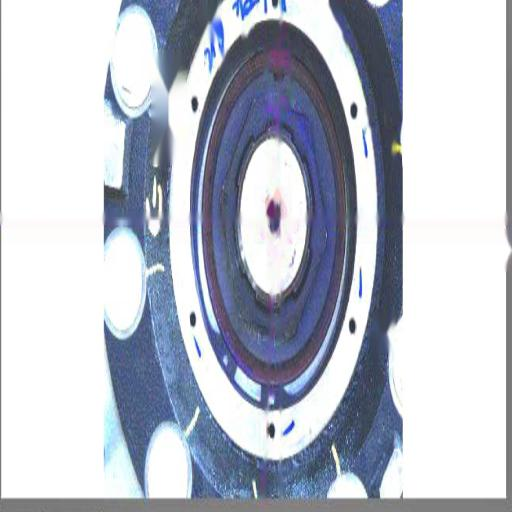center: (265, 202, 283, 234)
notch: (269, 64, 291, 92)
